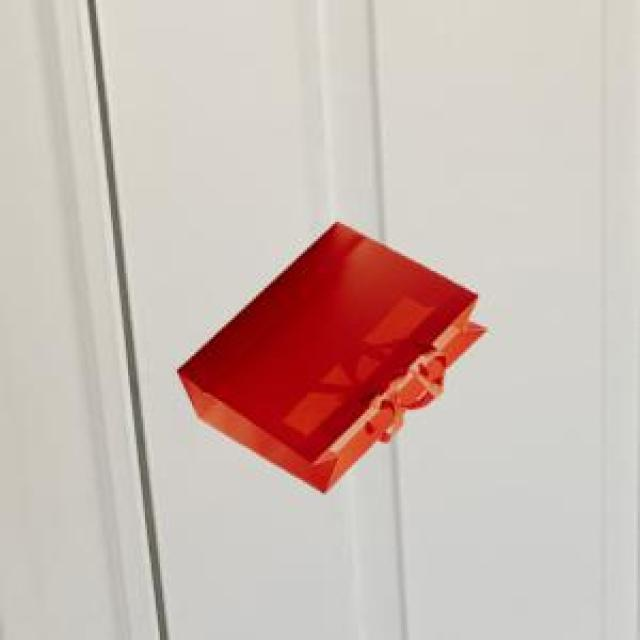paper: (173, 218, 482, 489)
